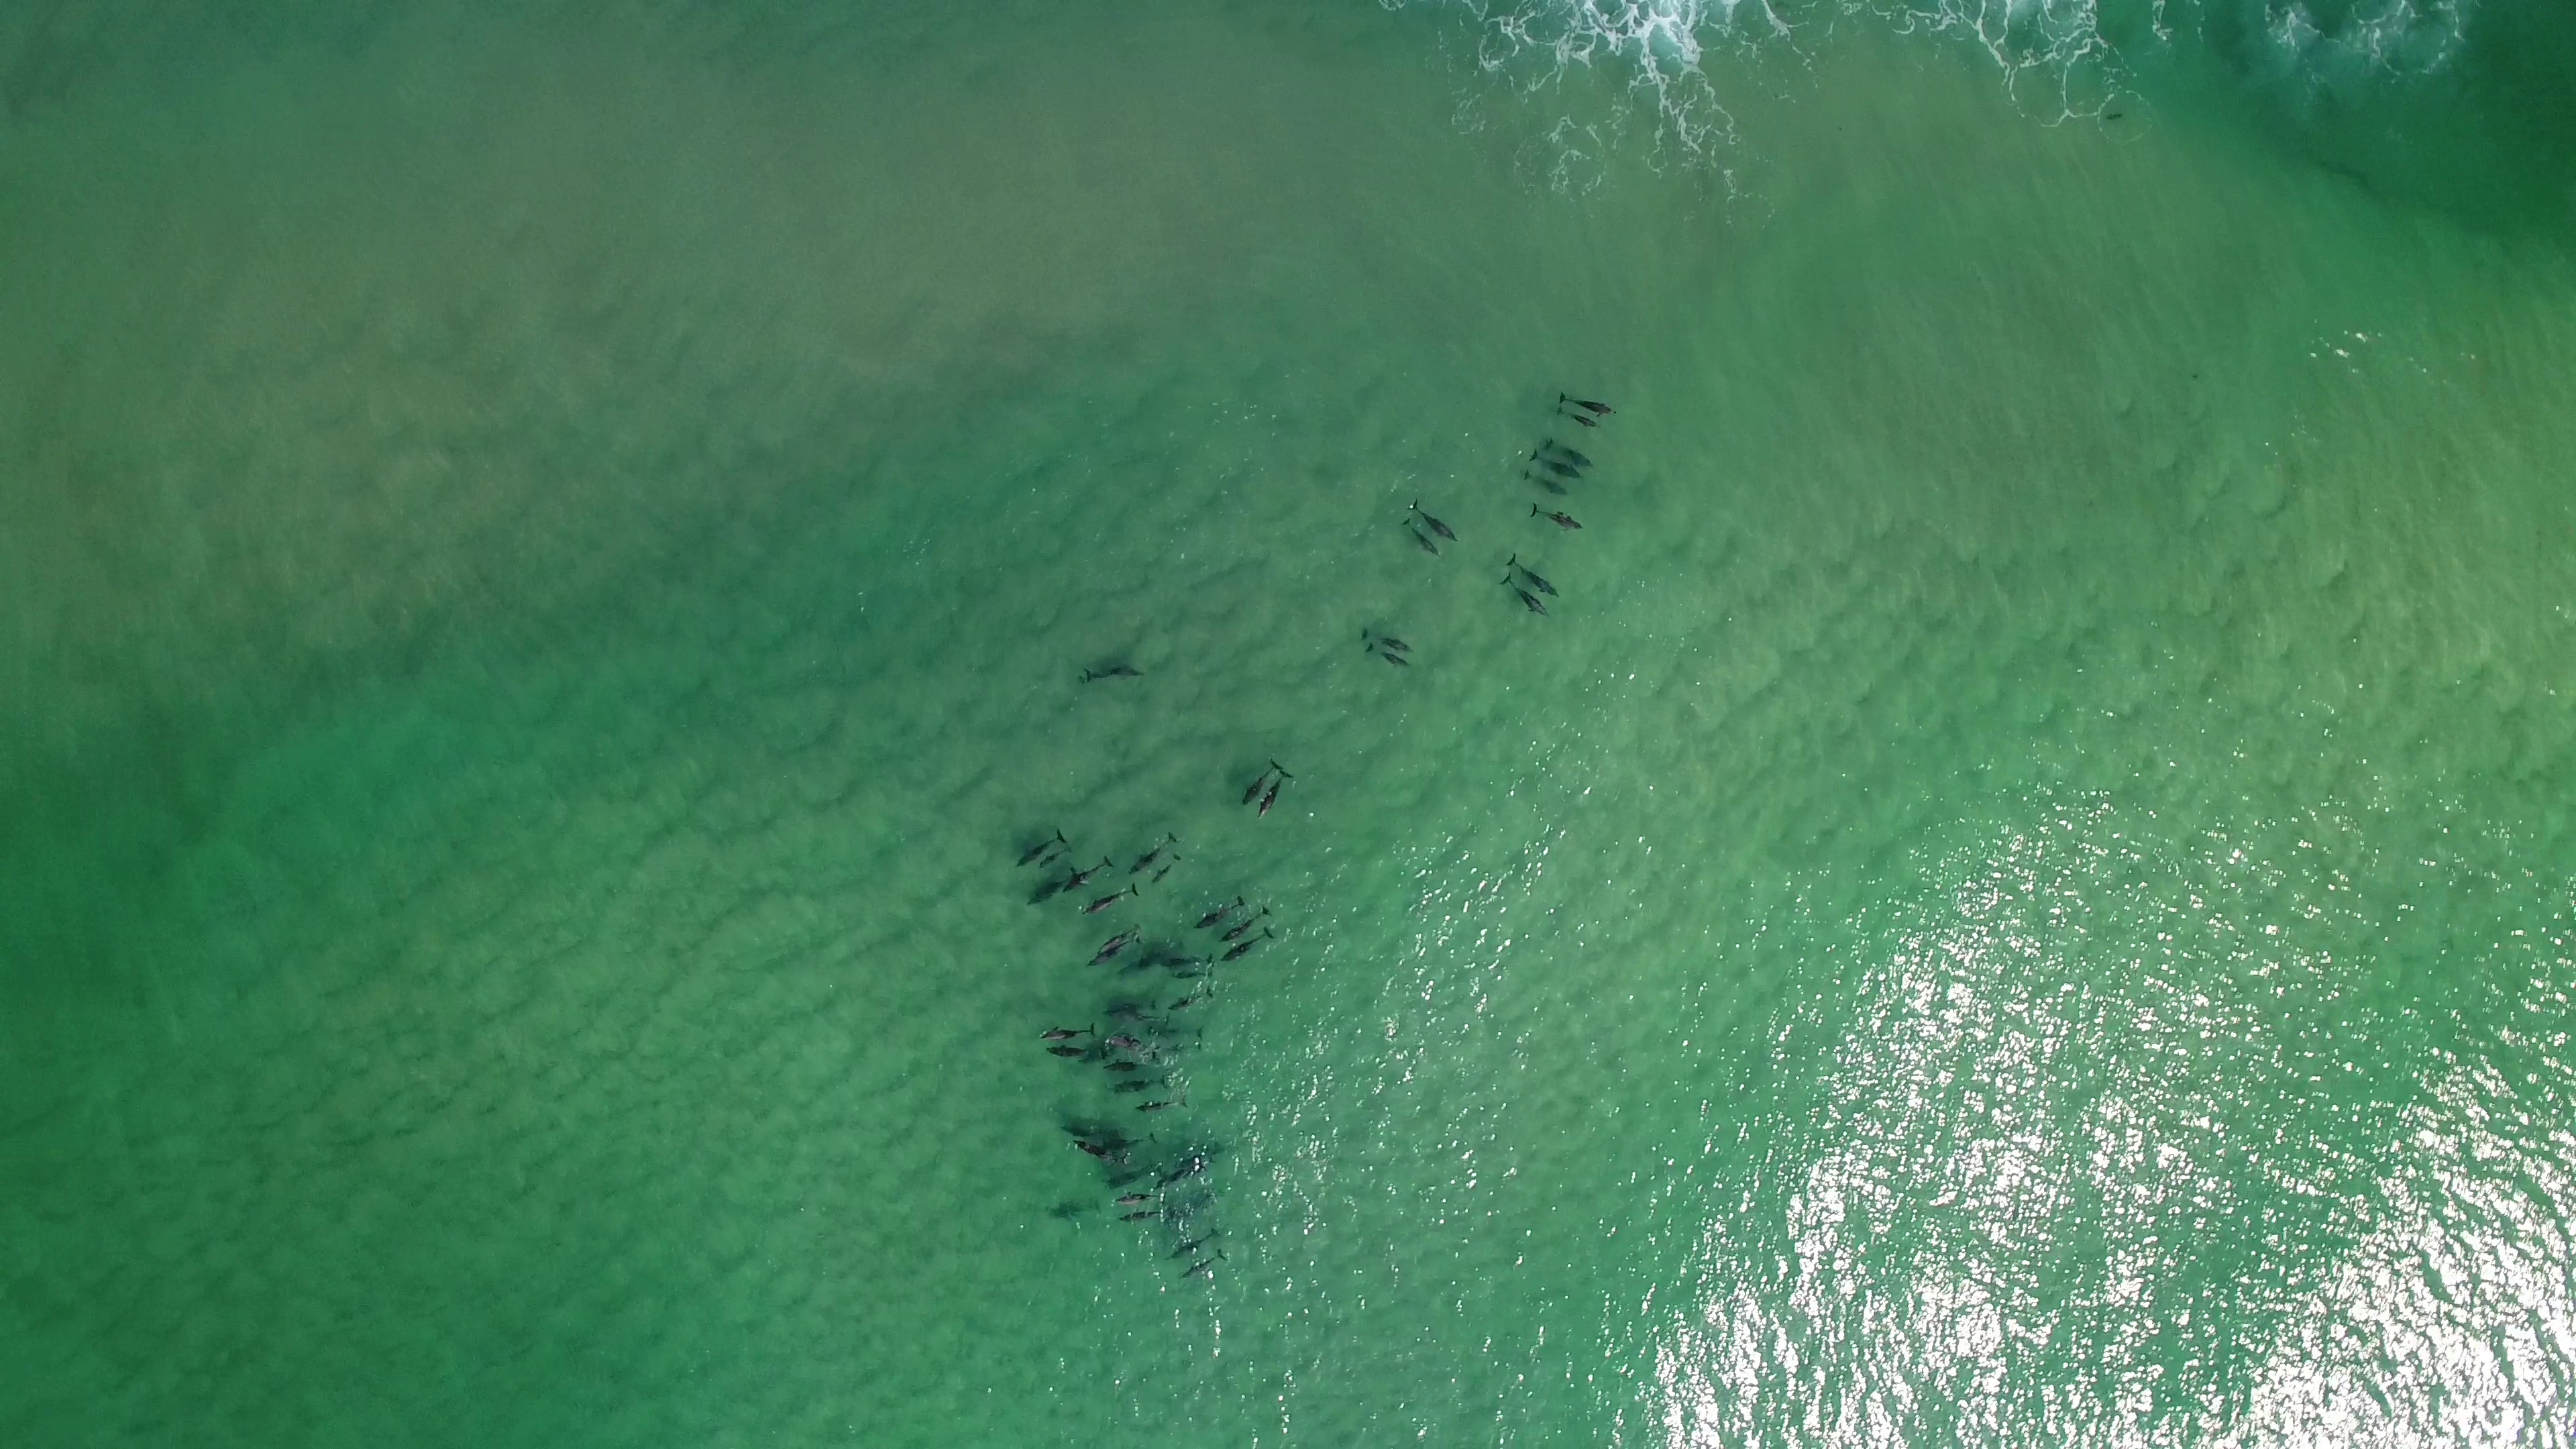dolphin: (1504, 552, 1560, 596), (1412, 499, 1460, 547), (1500, 571, 1548, 619), (1081, 881, 1141, 918), (1129, 830, 1177, 874), (1026, 869, 1076, 911), (1194, 892, 1247, 931), (1221, 904, 1274, 943), (1164, 1226, 1223, 1261), (1016, 828, 1065, 869), (1219, 927, 1276, 962), (1062, 855, 1113, 893), (1085, 934, 1141, 968), (1242, 757, 1279, 807), (1104, 1162, 1168, 1191), (1258, 768, 1292, 821), (1545, 432, 1592, 469), (1560, 387, 1619, 418), (1401, 515, 1440, 559), (1072, 1134, 1129, 1164), (1033, 1019, 1095, 1046), (1532, 501, 1583, 533), (1157, 1157, 1208, 1189), (1180, 1249, 1228, 1281), (1529, 449, 1582, 478), (1079, 662, 1143, 685), (1097, 924, 1143, 955), (1104, 1030, 1162, 1054), (1362, 623, 1410, 653), (1046, 1196, 1102, 1221), (1522, 467, 1569, 495), (1100, 996, 1155, 1019), (1169, 985, 1214, 1014), (1145, 853, 1185, 883), (1106, 1074, 1175, 1092), (1143, 1023, 1205, 1042), (1559, 403, 1601, 432), (1138, 1093, 1189, 1116), (1366, 640, 1408, 667), (1161, 950, 1214, 971), (1104, 1131, 1157, 1150), (1104, 1058, 1166, 1074), (1046, 1044, 1108, 1058), (1169, 962, 1217, 980), (1037, 846, 1074, 867), (1111, 1191, 1166, 1205), (1118, 1210, 1168, 1224)
